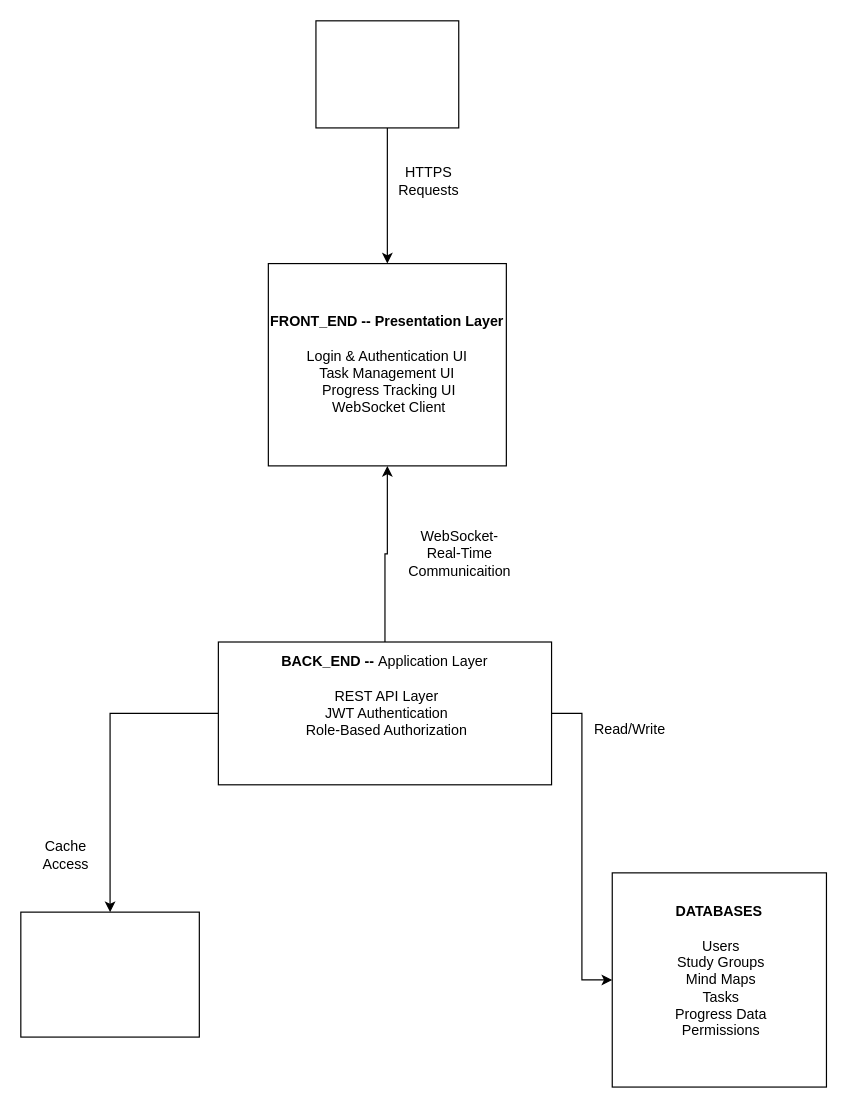
Image size: 847x1108. Some labels were removed from this diagram. Each missing label, with the centre of its shape:
"CACHE Layer Session Data Frequently Accessed Data Real-time State Cache" goes at pixel 109 974.
"USERS Students Group Owners Group Members" goes at pixel 387 74.
